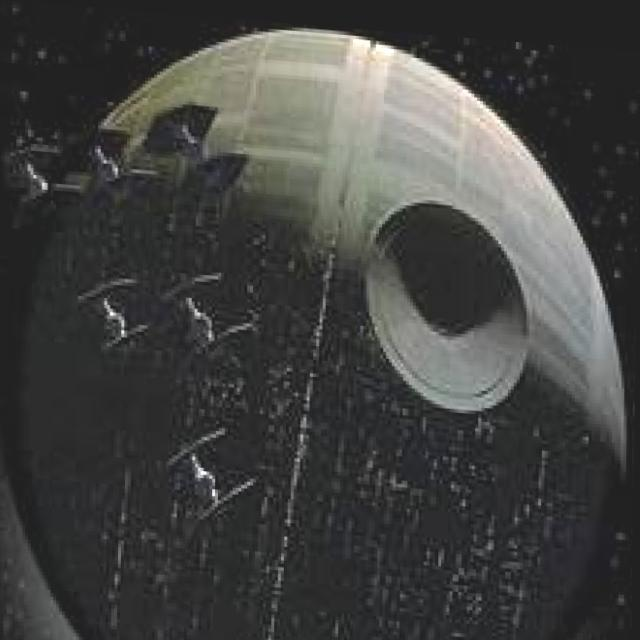deathStar: (54, 4, 640, 640)
